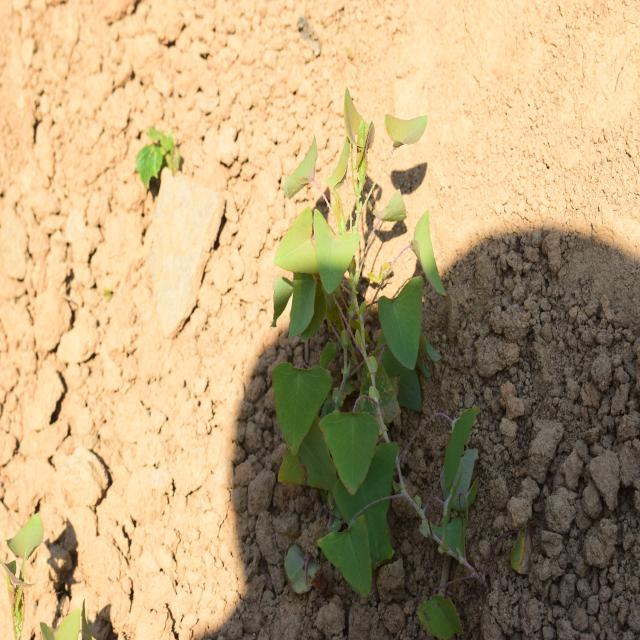Asiatic_Smartweed: (258, 198, 432, 526)
